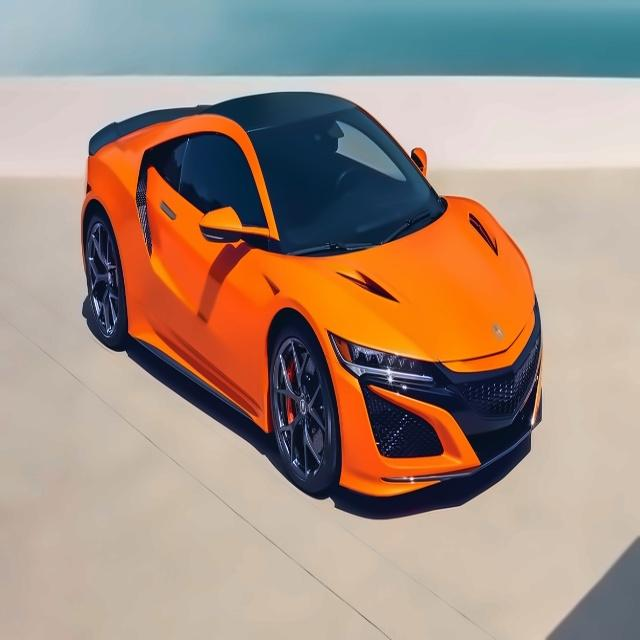Car hood: (287, 193, 544, 376)
Driver-s door - -F-R-: (146, 105, 275, 406)
Fender - -F-R-: (259, 230, 339, 431)
Fender - -R-R-: (89, 165, 141, 350)
Front bumper: (320, 358, 561, 504)
Headlight - -R-: (324, 324, 450, 393)
Rear bumper: (72, 202, 99, 288)
Rear light - -R-: (73, 176, 100, 196)
Side bumper - -R-: (121, 319, 273, 447), (123, 314, 272, 440)
Side mirror - -L-: (404, 141, 434, 184)
Side mirror - -R-: (194, 200, 264, 251)
